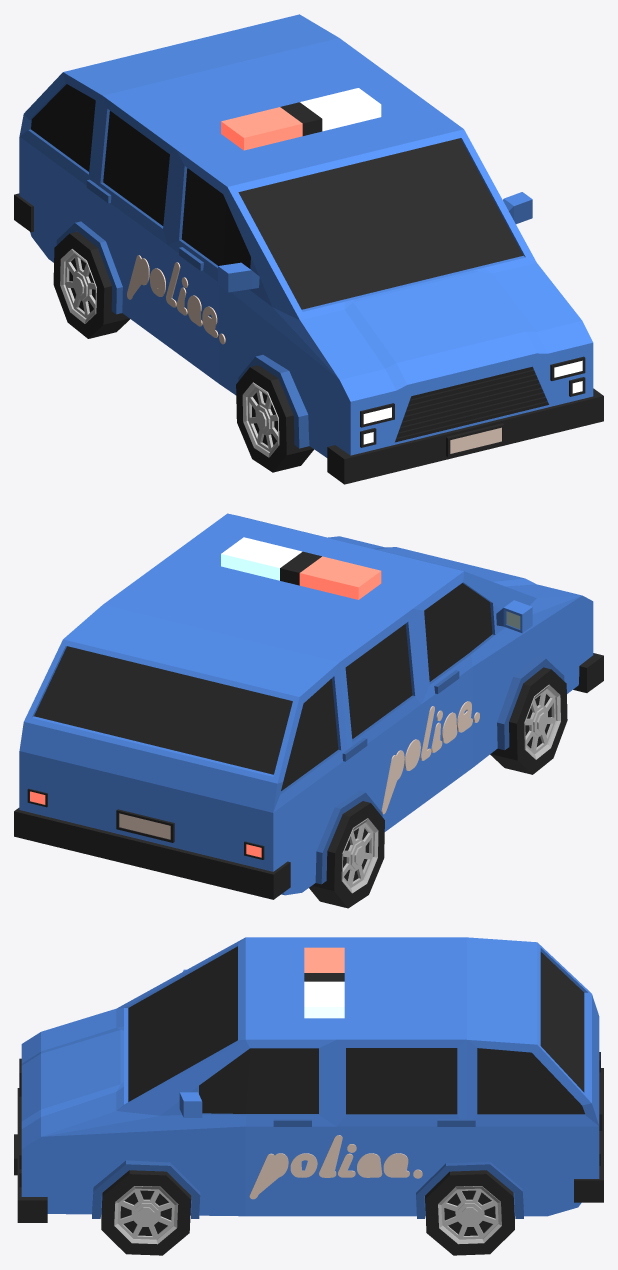
File: Police_1.fbx
3 views of the same model, one above another, from view 1: azimuth 30°, elevation 25°; view 2: azimuth 150°, elevation 25°; view 3: azimuth 270°, elevation 25° (orthographic). The views are drawn at different scales.
Parts seen in each view (by area): view 1: police; view 2: police; view 3: police.
Boxes of the visible parts, x1,y1,x2,y2 form: police: (14, 14, 603, 484); police: (14, 513, 603, 908); police: (14, 937, 603, 1255).
Size of the model in its own units: 222 by 171 by 420.
